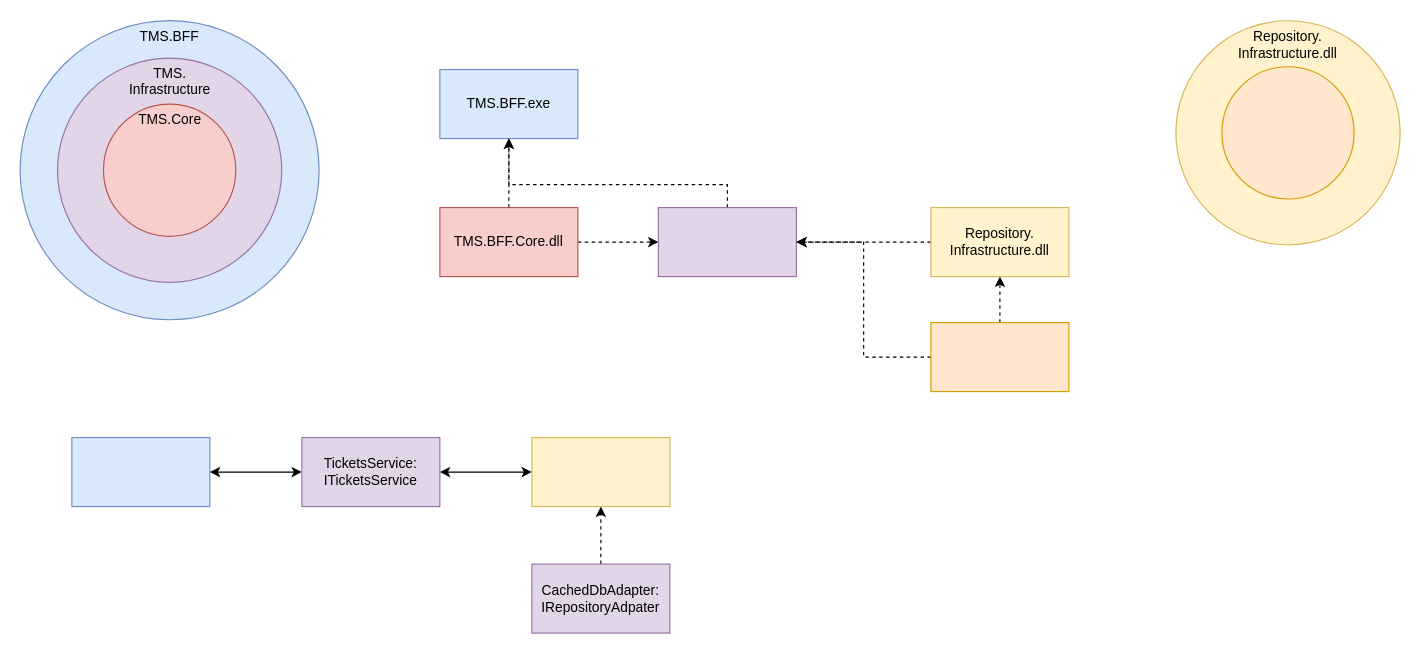
Image size: 1420x653. Some labels were removed from this diagram. Here are the shapes that lost their labels. From the top down, the centre of each, then its label:
At [1287,132]: "Repository. Core.dll".
At [726,241]: "TMS.BFF. Infrastruture.dll".
At [999,356]: "Repository.Core.dll".
At [140,471]: "TicketsController".
At [600,471]: "TicketRepository: I Repository".
